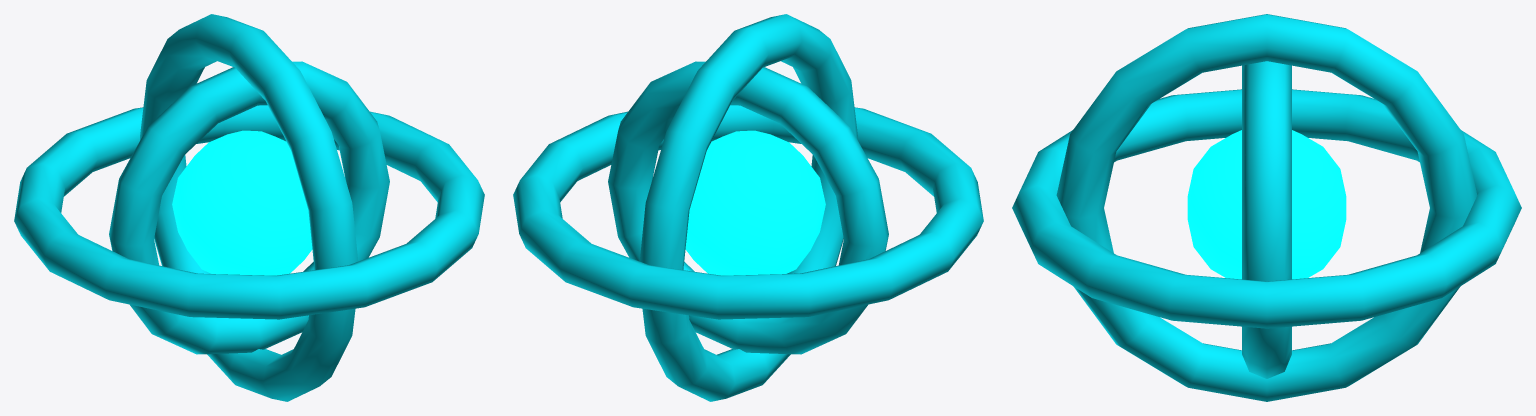
The model's file is giroscopio_precision.glb.
3 views of the same model, side by side, from view 1: azimuth 30°, elevation 25°; view 2: azimuth 150°, elevation 25°; view 3: azimuth 270°, elevation 25° (orthographic). The views are drawn at different scales.
Visible parts, largest first — view 1: Body, Glow; view 2: Body, Glow; view 3: Body, Glow.
Part boxes in pixels (bbox=[...]): Body: bbox=[14, 14, 484, 401]; Glow: bbox=[172, 130, 312, 275]; Body: bbox=[513, 14, 983, 401]; Glow: bbox=[685, 130, 825, 275]; Body: bbox=[1012, 14, 1521, 401]; Glow: bbox=[1187, 130, 1346, 279].
Bounding box in the file's own units: 0.244 × 0.204 × 0.244.
